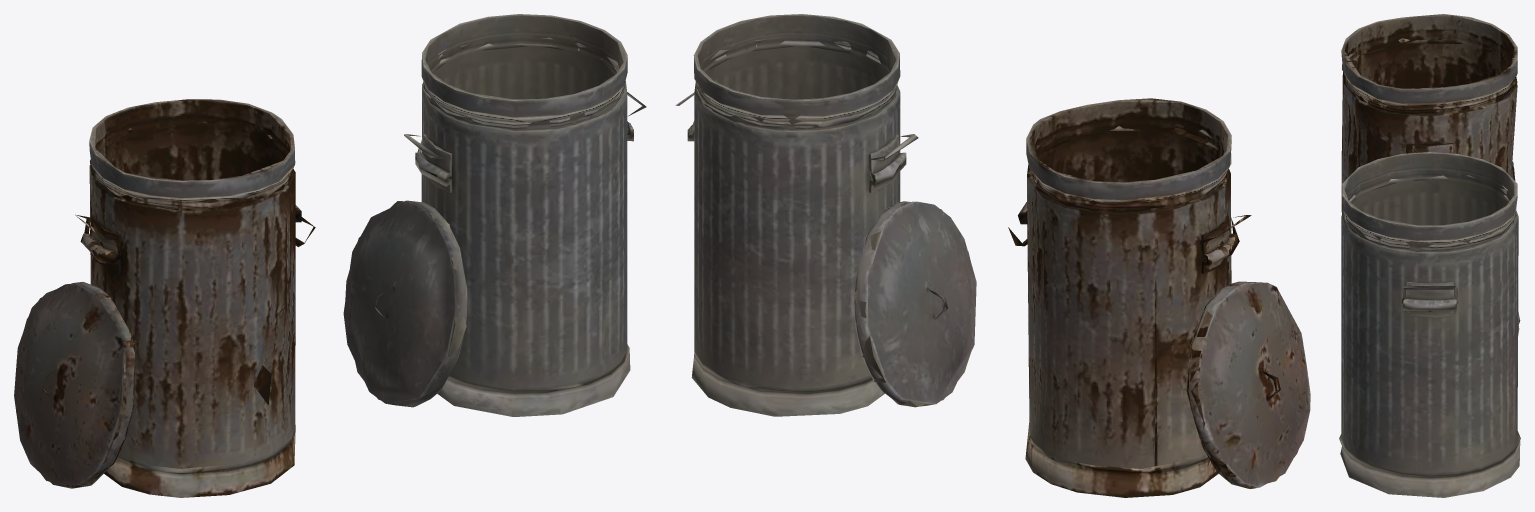
Rendered from metal_trash_can.glb.
The picture shows the model from 3 angles, left to right: view 1: azimuth 30°, elevation 25°; view 2: azimuth 150°, elevation 25°; view 3: azimuth 270°, elevation 25°; orthographic projection. The views are drawn at different scales.
Parts seen in each view (by area): view 1: metal_trash_can_handle_left, metal_trash_can_rust; view 2: metal_trash_can_handle_left, metal_trash_can_rust; view 3: metal_trash_can_handle_left, metal_trash_can_rust.
Part boxes in pixels (x1,y1,x2,y2): metal_trash_can_handle_left: (343,14,646,416); metal_trash_can_rust: (14,99,315,497); metal_trash_can_handle_left: (675,14,976,416); metal_trash_can_rust: (1008,98,1310,497); metal_trash_can_handle_left: (1339,152,1520,497); metal_trash_can_rust: (1341,14,1520,324).
Bounding box in the file's own units: 1.78 × 0.9062 × 0.5524.
Materials: 2 (2 with a texture image).
